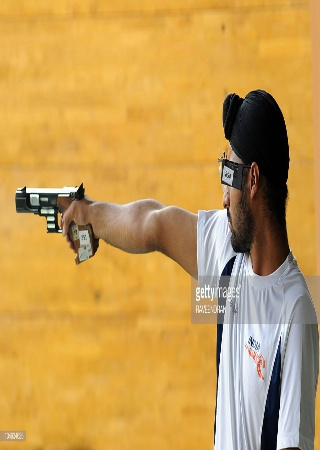handgun: (10, 180, 99, 265)
